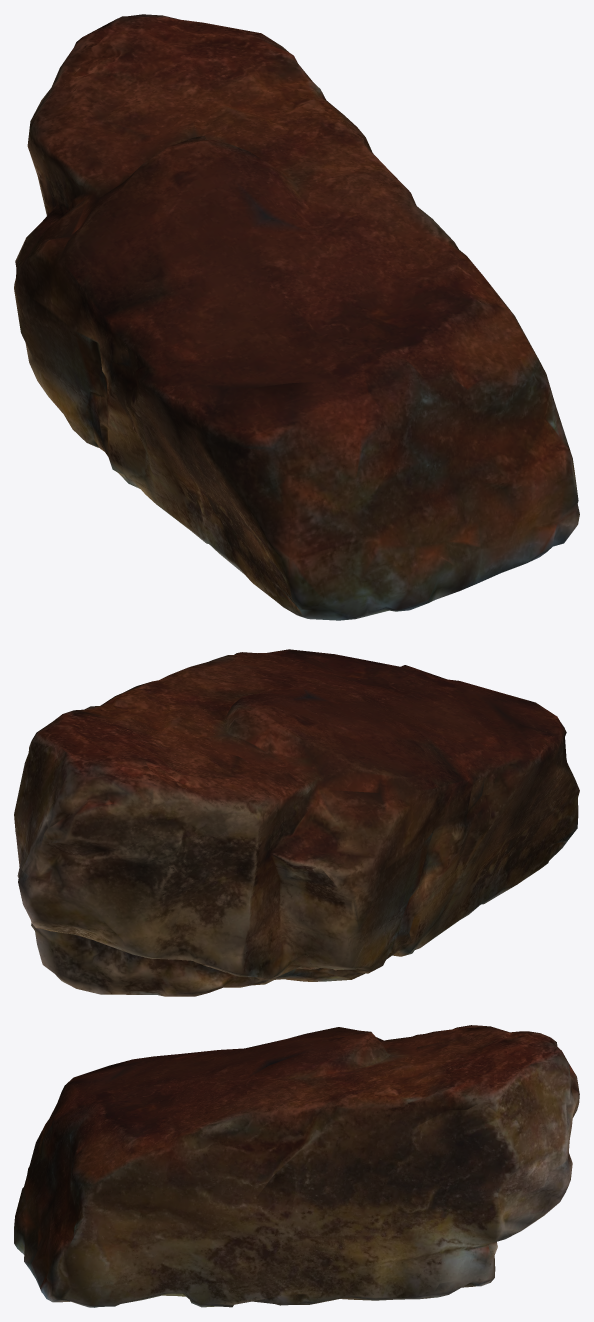
The model's file is rock_07.glb.
3 renders of one model, top to bottom at view 1: azimuth 30°, elevation 25°; view 2: azimuth 150°, elevation 25°; view 3: azimuth 270°, elevation 25°, orthographic. The views are drawn at different scales.
Visible parts, largest first — view 1: rock_07; view 2: rock_07; view 3: rock_07.
Part boxes in pixels (x1,y1,x2,y2): rock_07: (14,14,579,620); rock_07: (14,649,579,996); rock_07: (14,1025,579,1307).
Bounding box in the file's own units: 0.1681 × 0.1437 × 0.3199.
Materials: 1 (1 with a texture image).
